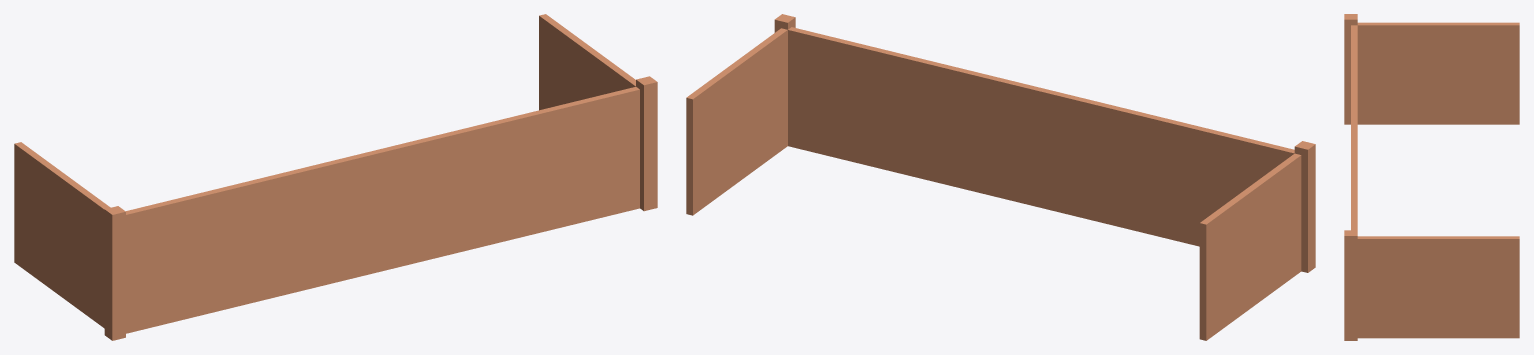
Rendered from fence_short.fbx.
The picture shows the model from 3 angles, left to right: view 1: azimuth 30°, elevation 25°; view 2: azimuth 150°, elevation 25°; view 3: azimuth 270°, elevation 25°; orthographic projection. The views are drawn at different scales.
Parts seen in each view (by area): view 1: fence_short; view 2: fence_short; view 3: fence_short.
Boxes of the visible parts, x1,y1,x2,y2 form: fence_short: [14, 14, 657, 340]; fence_short: [686, 14, 1315, 340]; fence_short: [1344, 14, 1519, 340].
Size of the model in its own units: 12 by 2.65 by 4.
